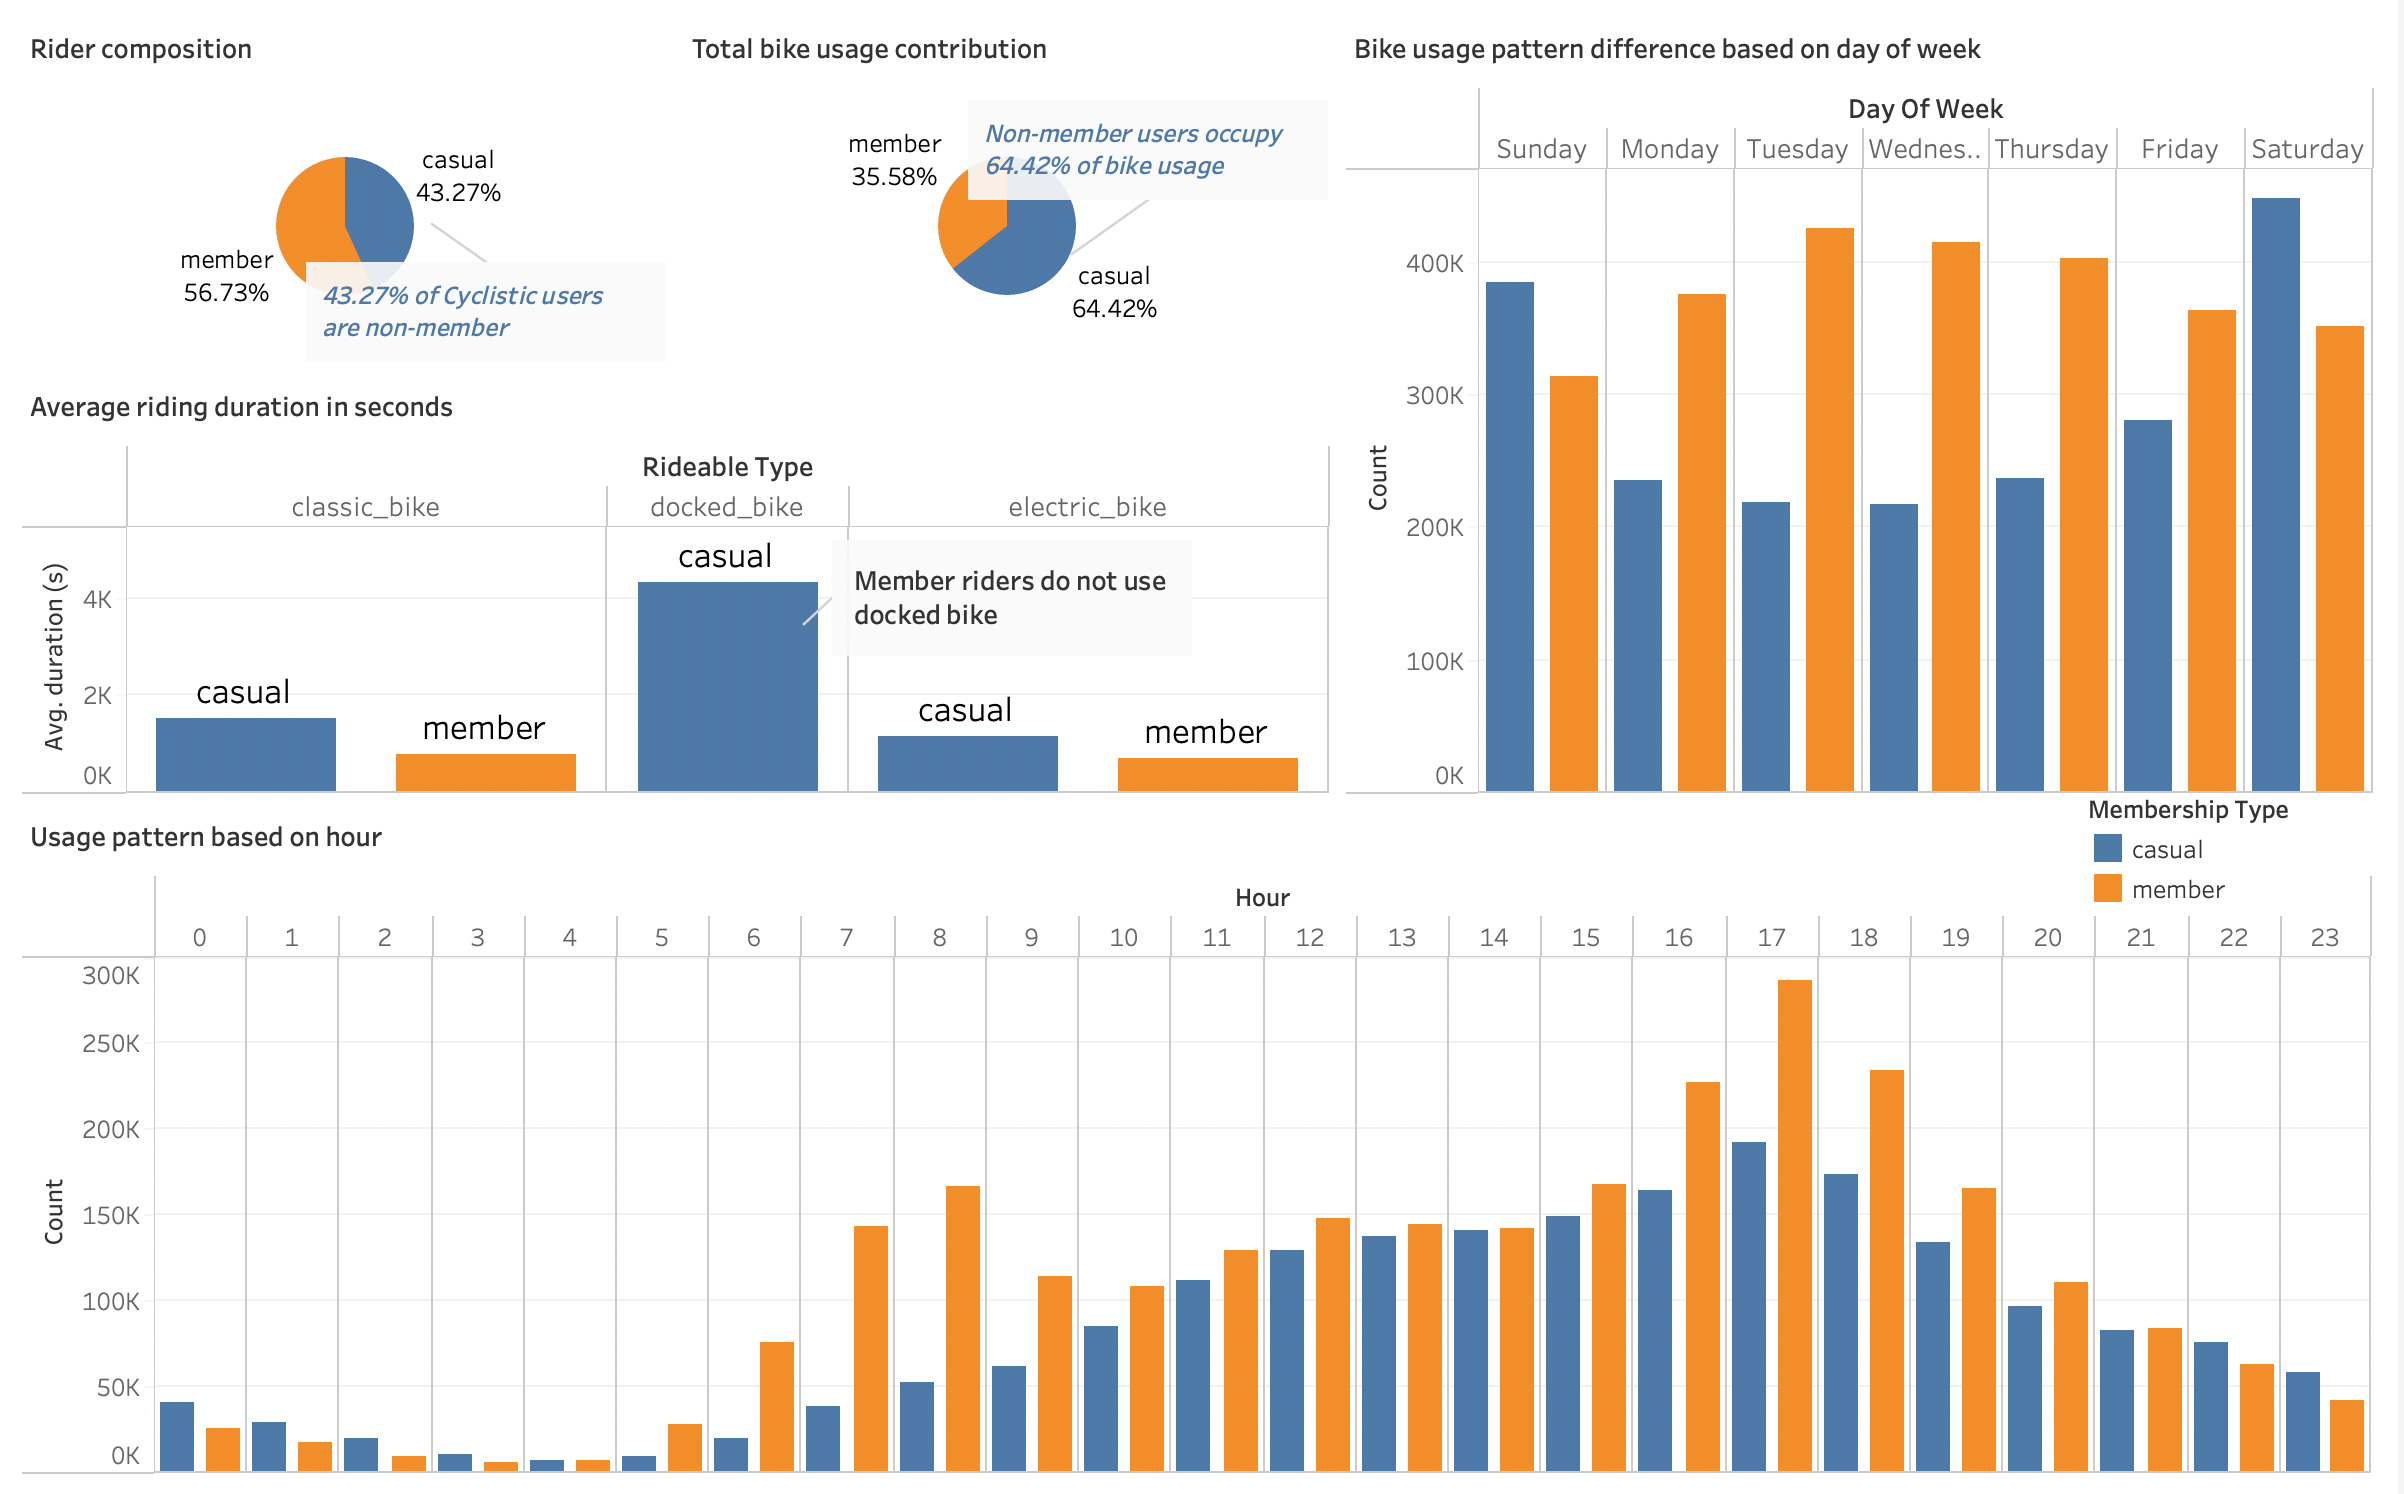

Layout of this report page (visuals, bound fields, positions):
{"tool":"tableau","page":{"name":"Dashboard 1","canvas":[1200,750],"ordinal":0},"visuals":[{"type":"worksheet","title":"Rider composition","mark":"Pie","box":[8,8,331,178.5]},{"type":"worksheet","title":"Bike Usage Contribution ","mark":"Pie","box":[339,8,331,178.5]},{"type":"worksheet","title":"Bike usage pattern difference based on day of week","mark":"Automatic","rows":["cyclistic_cleaned_data_20220709.csv_EBA1E0B109574B049DE4634C"],"cols":["day_of_week","membership_type"],"box":[670,8,522,394]},{"type":"worksheet","title":"Average riding length","mark":"Automatic","rows":["duration_seconds"],"cols":["rideable_type","membership_type"],"box":[8,186.5,662,215.5]},{"type":"legend","title":"Rider composition","param":"[federated.0lamrkg0zwm3rt15t1tip1byfc4u].[none:membership_type:nk]","box":[1045,397,140,58]},{"type":"worksheet","title":"Usage pattern based on hour","mark":"Automatic","rows":["cyclistic_cleaned_data_20220709.csv_EBA1E0B109574B049DE4634C"],"cols":["hour","membership_type"],"box":[8,402,1184,340]}]}

Visuals, with their boxes in screenshot pixels (x1, y1, x2, y2), scaled from the page's 1200x750 canvas onto the 2404x1494 screenshot:
"Rider composition" worksheet (Pie marks): Rect(16, 16, 679, 372)
"Bike Usage Contribution " worksheet (Pie marks): Rect(679, 16, 1342, 372)
"Bike usage pattern difference based on day of week" worksheet: Rect(1342, 16, 2388, 801)
"Average riding length" worksheet: Rect(16, 372, 1342, 801)
"Rider composition" legend: Rect(2093, 791, 2374, 906)
"Usage pattern based on hour" worksheet: Rect(16, 801, 2388, 1478)
